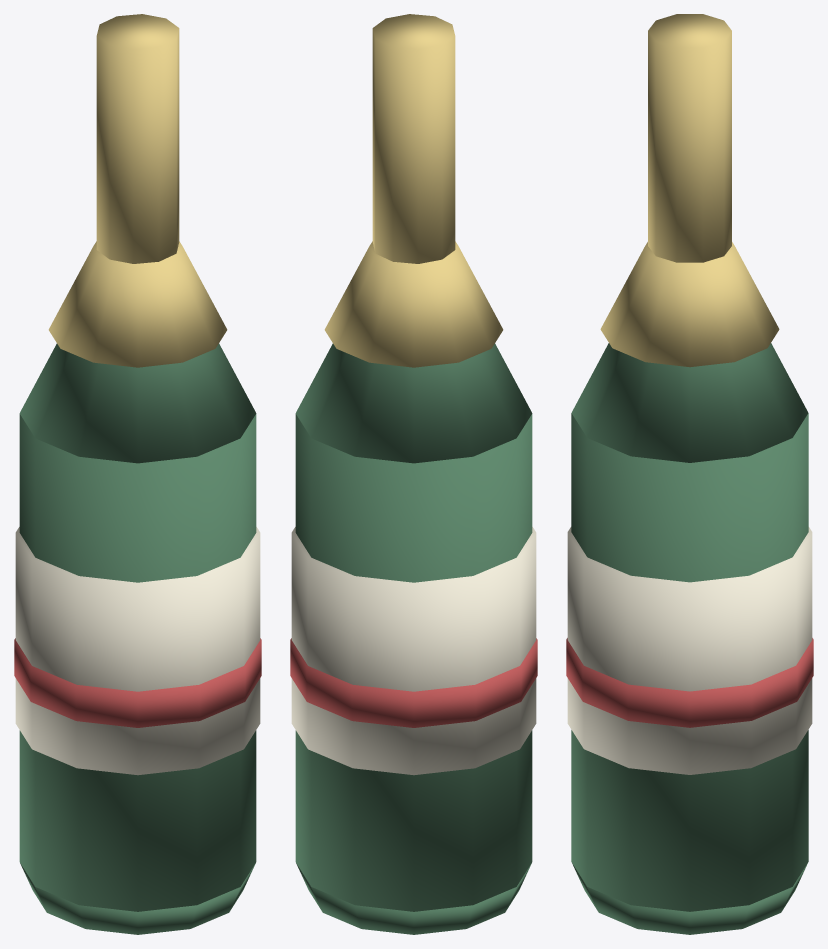
File: scrap_champagne.fbx
3 views of the same model, side by side, from view 1: azimuth 30°, elevation 25°; view 2: azimuth 150°, elevation 25°; view 3: azimuth 270°, elevation 25° (orthographic).
Parts seen in each view (by area): view 1: scrap_champagne; view 2: scrap_champagne; view 3: scrap_champagne.
Boxes of the visible parts, left/top/right/bottom form: scrap_champagne: left=14, top=14, right=261, bottom=934; scrap_champagne: left=290, top=14, right=537, bottom=934; scrap_champagne: left=566, top=14, right=813, bottom=934.
Bounding box in the file's own units: 0.094 × 0.36 × 0.094.
